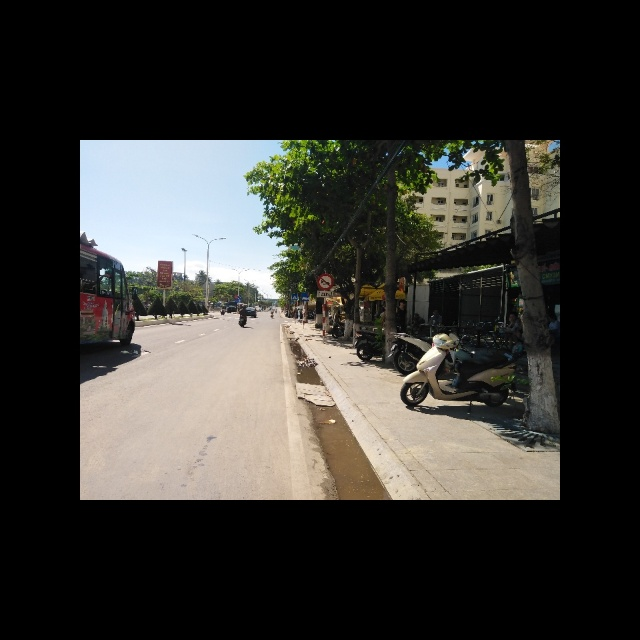Bệnh viện: (301, 292, 310, 301)
Cấm bấm còi: (317, 273, 335, 291)
Đường dành cho người đi bộ: (291, 294, 298, 300)
